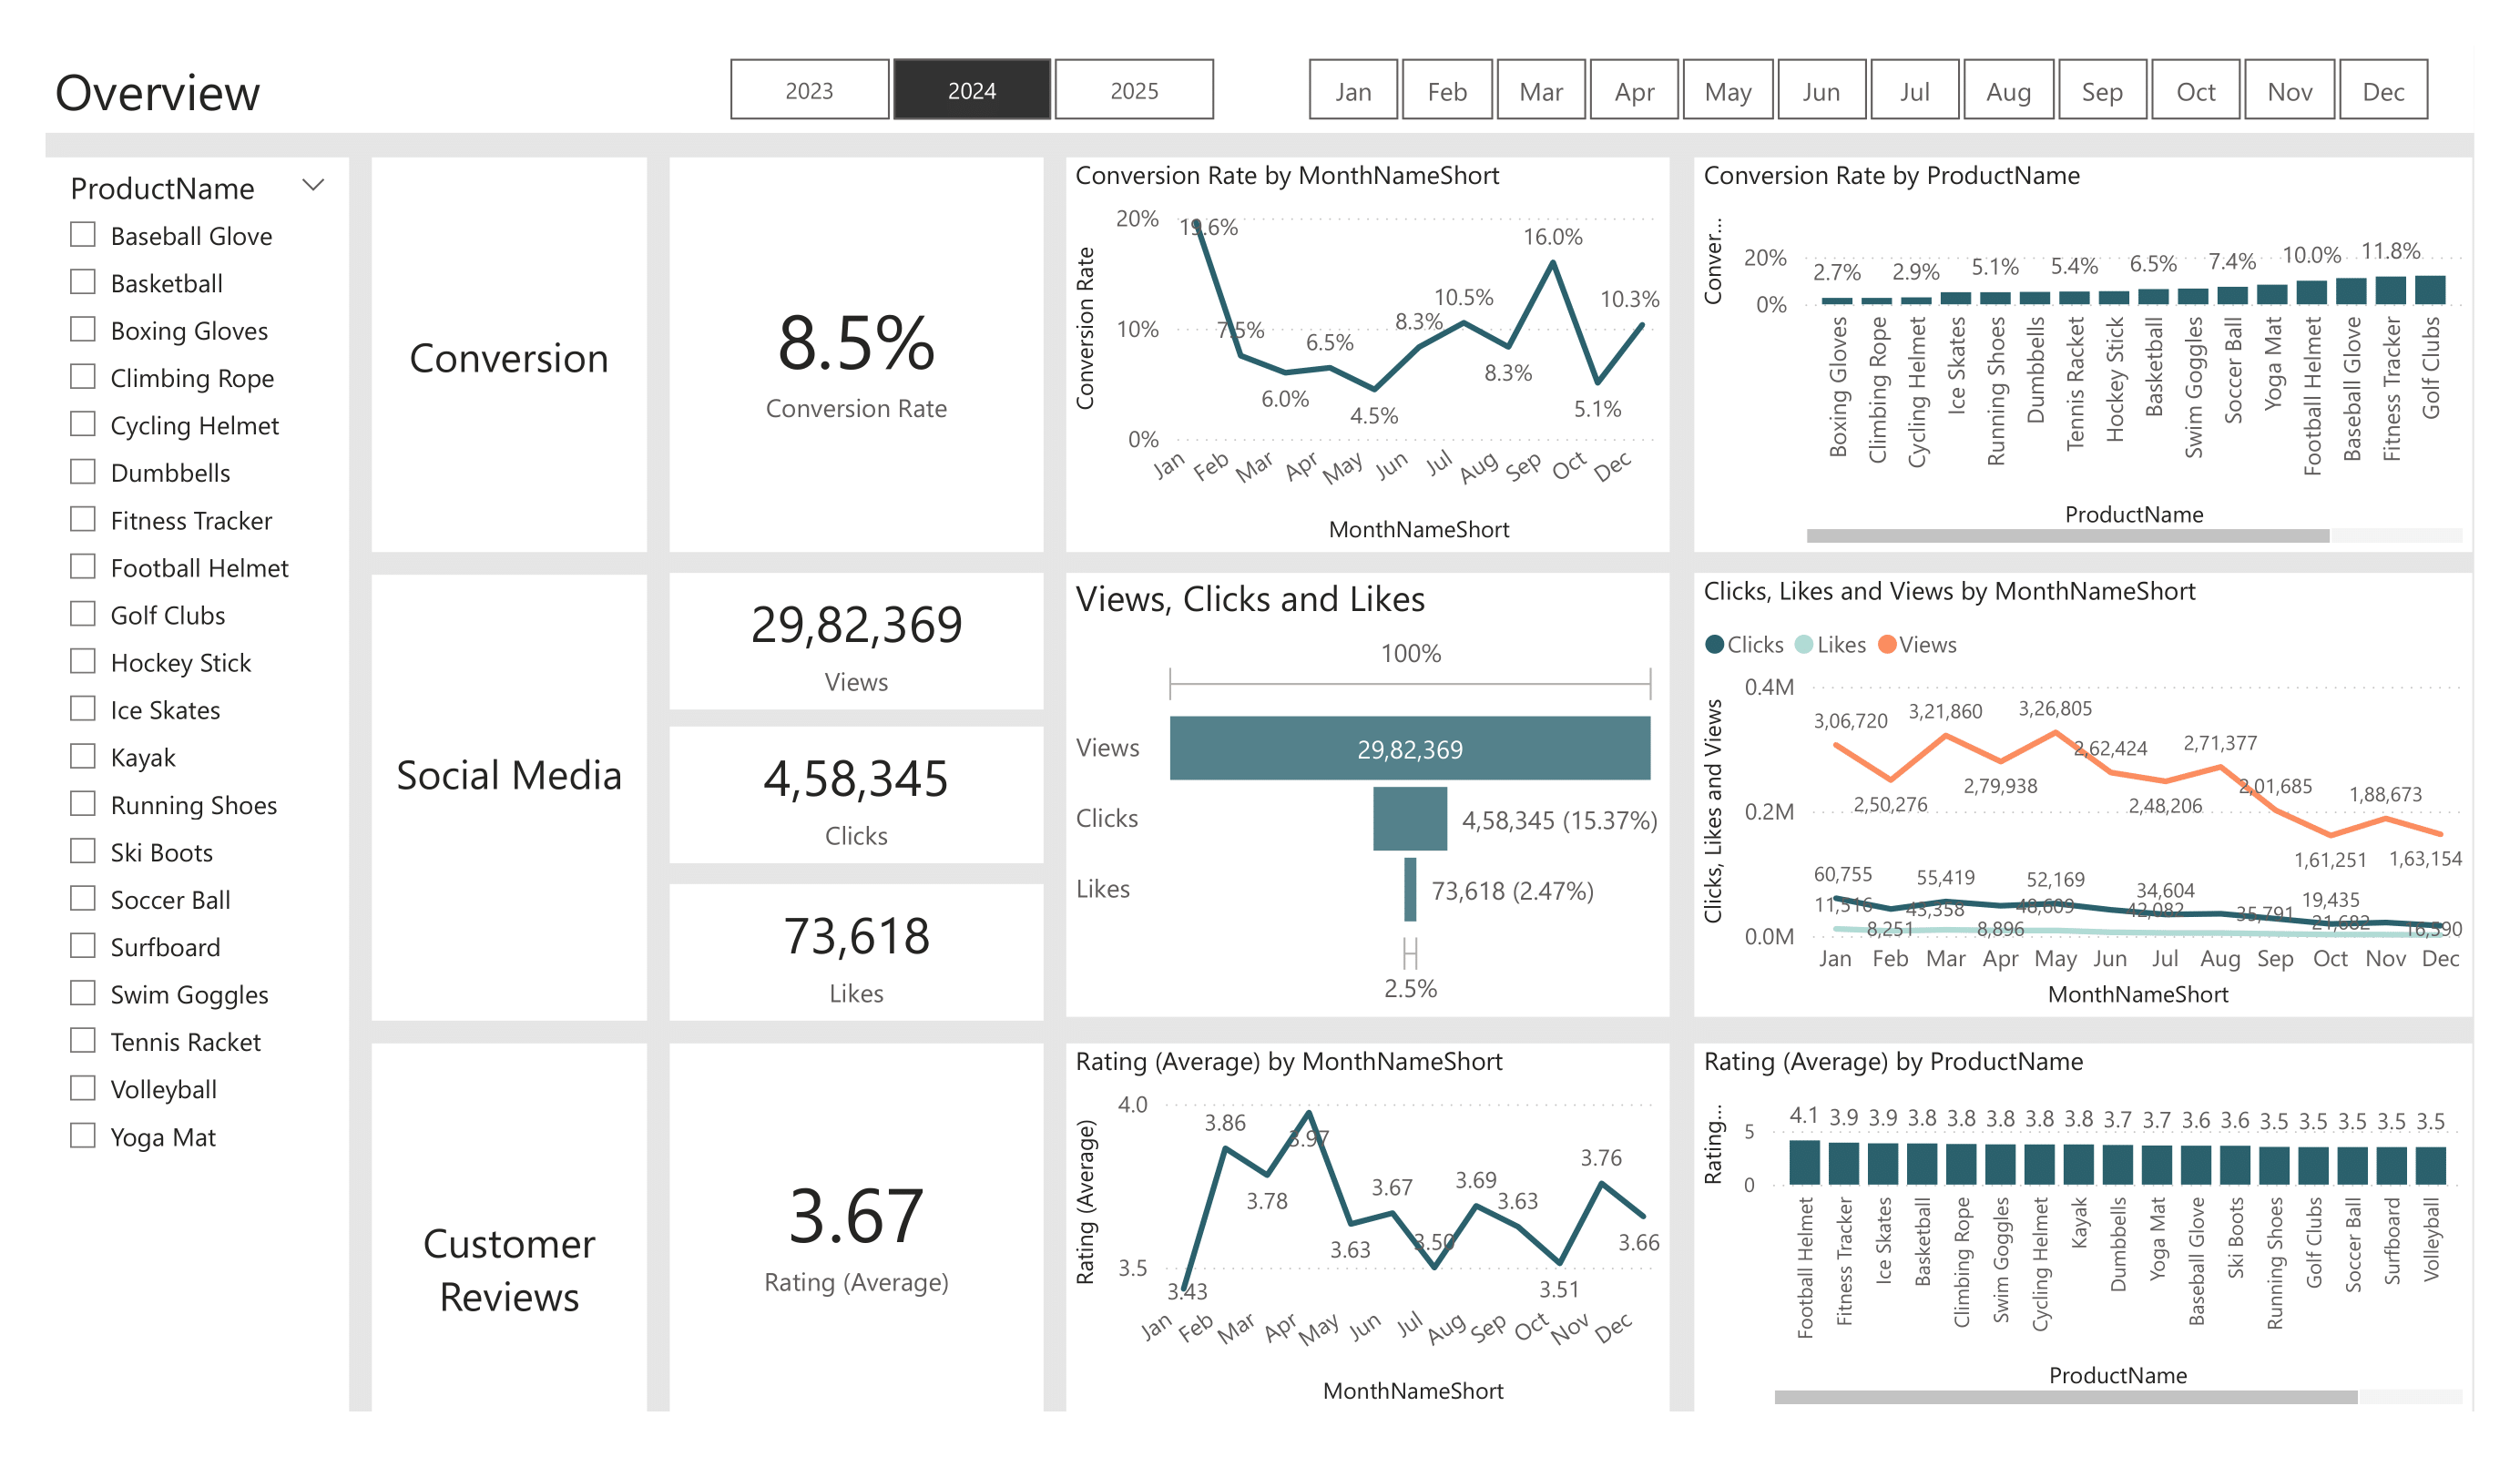

What the dashboard file says about the page in this screenshot:
{"tool":"powerbi","page":{"name":"Overview","canvas":[1280,720],"ordinal":0},"visuals":[{"type":"textbox","box":[0,0,1280.3,46.5],"z":0},{"type":"slicer","fields":{"Values":["dim_products.ProductName"]},"box":[0,58.7,160.2,661.6],"z":1000},{"type":"textbox","box":[172.4,58.7,144.3,207.9],"z":2000},{"type":"textbox","box":[172.4,278.8,144.3,234.8],"z":3000},{"type":"textbox","box":[172.4,525.8,144.3,194.4],"z":4000},{"type":"card","fields":{"Values":["_Calculations.Conversion Rate"]},"box":[329.5,59,196.2,207.7],"z":5000},{"type":"card","fields":{"Values":["_Calculations.Views"]},"box":[329.5,278.2,196.2,71.8],"z":6000},{"type":"card","fields":{"Values":["_Calculations.Clicks"]},"box":[329.5,359,196.2,71.8],"z":7000},{"type":"card","fields":{"Values":["_Calculations.Likes"]},"box":[329.5,442.3,196.2,71.8],"z":8000},{"type":"card","fields":{"Values":["_Calculations.Rating (Average)"]},"box":[329.5,525.6,196.2,194.9],"z":9000},{"type":"slicer","fields":{"Values":["Calendar.Year"]},"box":[335.1,0,304.5,46.5],"z":10000},{"type":"slicer","fields":{"Values":["Calendar.MonthNameShort"]},"box":[639.5,0,640.8,46.5],"z":11000},{"type":"lineChart","fields":{"Y":["_Calculations.Conversion Rate"],"Category":["Calendar.MonthNameShort"]},"box":[538.5,59,317.9,207.7],"z":12000},{"type":"clusteredColumnChart","fields":{"Category":["dim_products.ProductName"],"Y":["_Calculations.Conversion Rate"]},"box":[869.2,59,410.3,207.7],"z":13000},{"type":"lineChart","fields":{"Category":["Calendar.MonthNameShort"],"Y":["_Calculations.Clicks","_Calculations.Likes","_Calculations.Views"]},"box":[869.2,278.2,410.3,233.3],"z":14000},{"type":"funnel","fields":{"Y":["_Calculations.Views","_Calculations.Clicks","_Calculations.Likes"]},"box":[538.5,278.2,317.9,233.3],"z":15000},{"type":"lineChart","fields":{"Category":["Calendar.MonthNameShort"],"Y":["_Calculations.Rating (Average)"]},"box":[538.5,525.6,317.9,194.9],"z":16000},{"type":"clusteredColumnChart","fields":{"Category":["dim_products.ProductName"],"Y":["_Calculations.Rating (Average)"]},"box":[869.2,525.6,410.3,194.9],"z":17000}]}

Visuals, with their boxes in screenshot pixels (x1, y1, x2, y2):
textbox: 46 46 2474 134
slicer - dim_products.ProductName: 46 157 350 1411
textbox: 372 157 647 551
textbox: 372 575 647 1020
textbox: 372 1043 647 1411
card - _Calculations.Conversion Rate: 671 158 1043 552
card - _Calculations.Views: 671 574 1043 709
card - _Calculations.Clicks: 671 727 1043 863
card - _Calculations.Likes: 671 884 1043 1021
card - _Calculations.Rating (Average): 671 1043 1043 1411
slicer - Calendar.Year: 681 46 1260 134
slicer - Calendar.MonthNameShort: 1259 46 2474 134
lineChart - _Calculations.Conversion Rate x Calendar.MonthNameShort: 1067 158 1670 552
clusteredColumnChart - dim_products.ProductName x _Calculations.Conversion Rate: 1695 158 2474 552
lineChart - Calendar.MonthNameShort x _Calculations.Clicks: 1695 574 2474 1016
funnel - _Calculations.Views x _Calculations.Clicks: 1067 574 1670 1016
lineChart - Calendar.MonthNameShort x _Calculations.Rating (Average): 1067 1043 1670 1411
clusteredColumnChart - dim_products.ProductName x _Calculations.Rating (Average): 1695 1043 2474 1411
